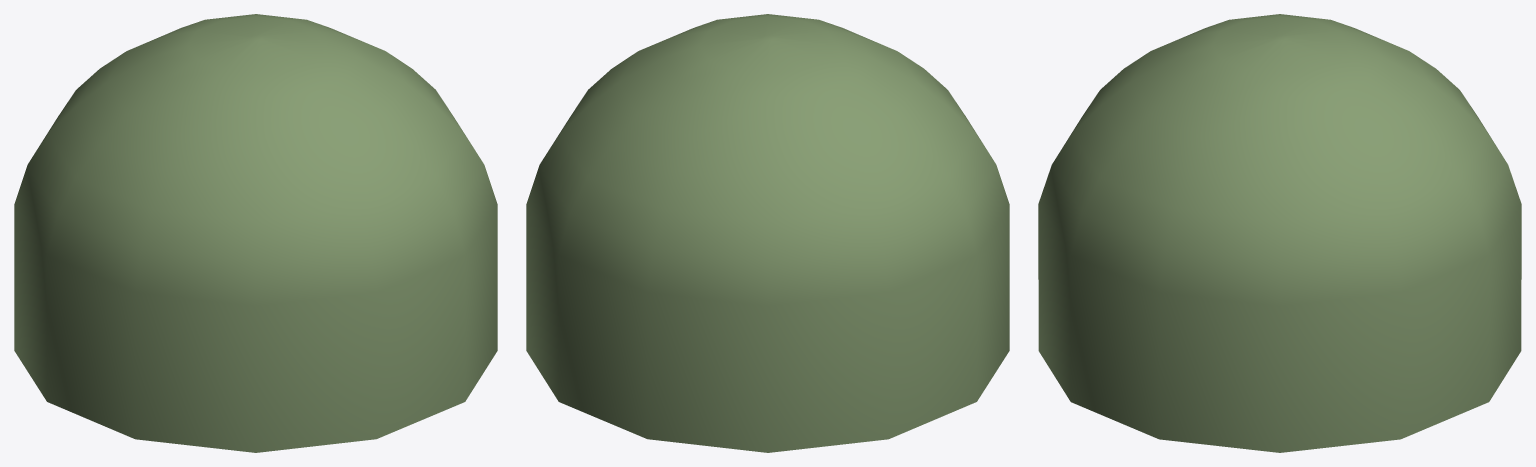
The model's file is Lacy_Tree_Philodendron_Analytical_0.obj.
3 views of the same model, side by side, from view 1: azimuth 30°, elevation 25°; view 2: azimuth 150°, elevation 25°; view 3: azimuth 270°, elevation 25° (orthographic).
Parts seen in each view (by area): view 1: AnalyticalCrown; view 2: AnalyticalCrown; view 3: AnalyticalCrown.
Part boxes in pixels (x1=…): AnalyticalCrown: x1=14, y1=14, x2=497, y2=452; AnalyticalCrown: x1=526, y1=14, x2=1009, y2=452; AnalyticalCrown: x1=1038, y1=14, x2=1521, y2=452.
Size of the model in its own units: 1.4 by 1 by 1.4.
